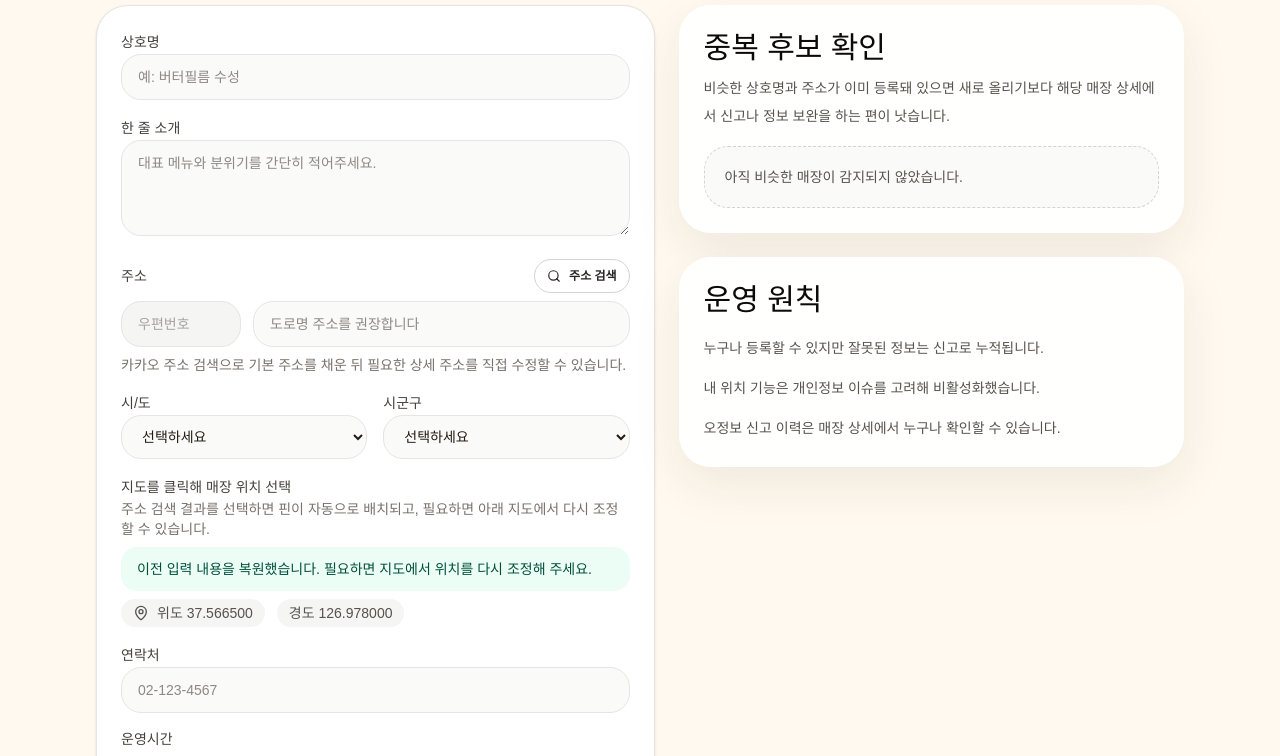
it: SubmissionHub › shows a generic error when the store API returns an empty body
This screenshot has width=1280, height=756.
Type "버터 테스트" into the field labelled "상호명" at (375, 77), box [121,54,630,100]
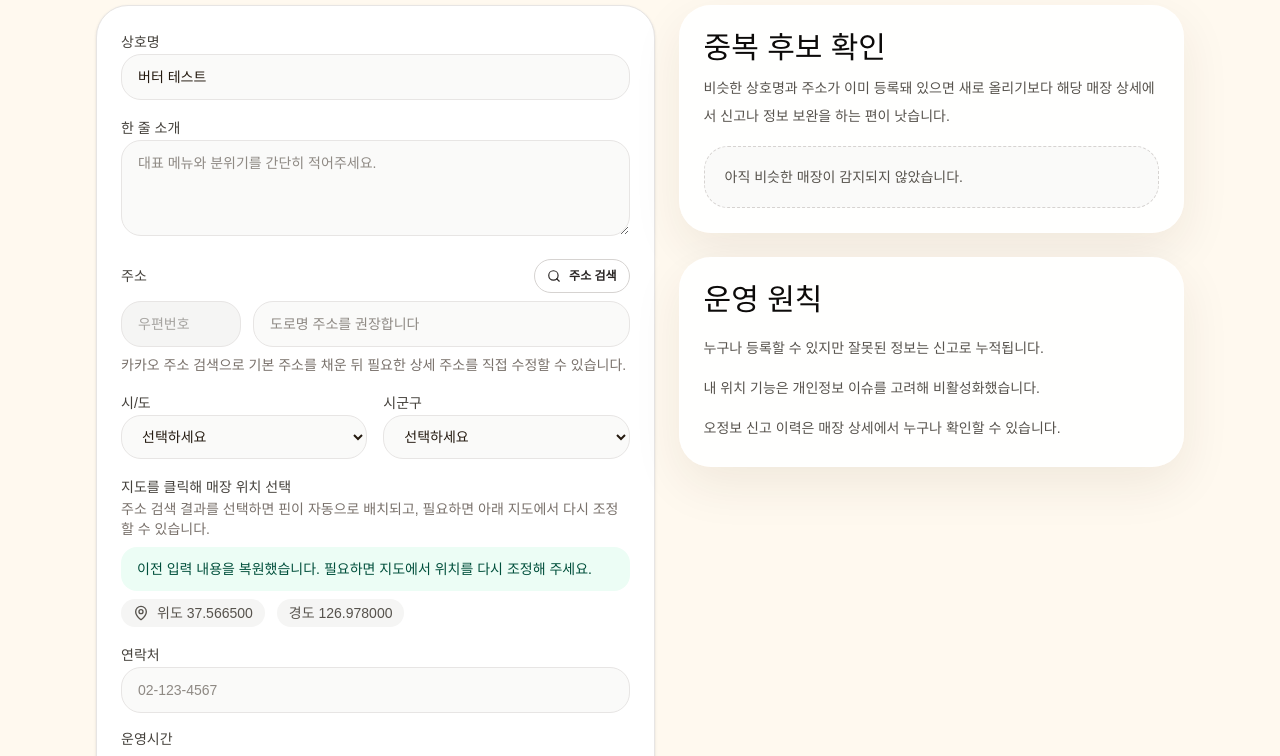
Type "버터떡이 맛있는 가게예요" into the text box labelled "한 줄 소개" at (375, 188), box [121,140,630,236]
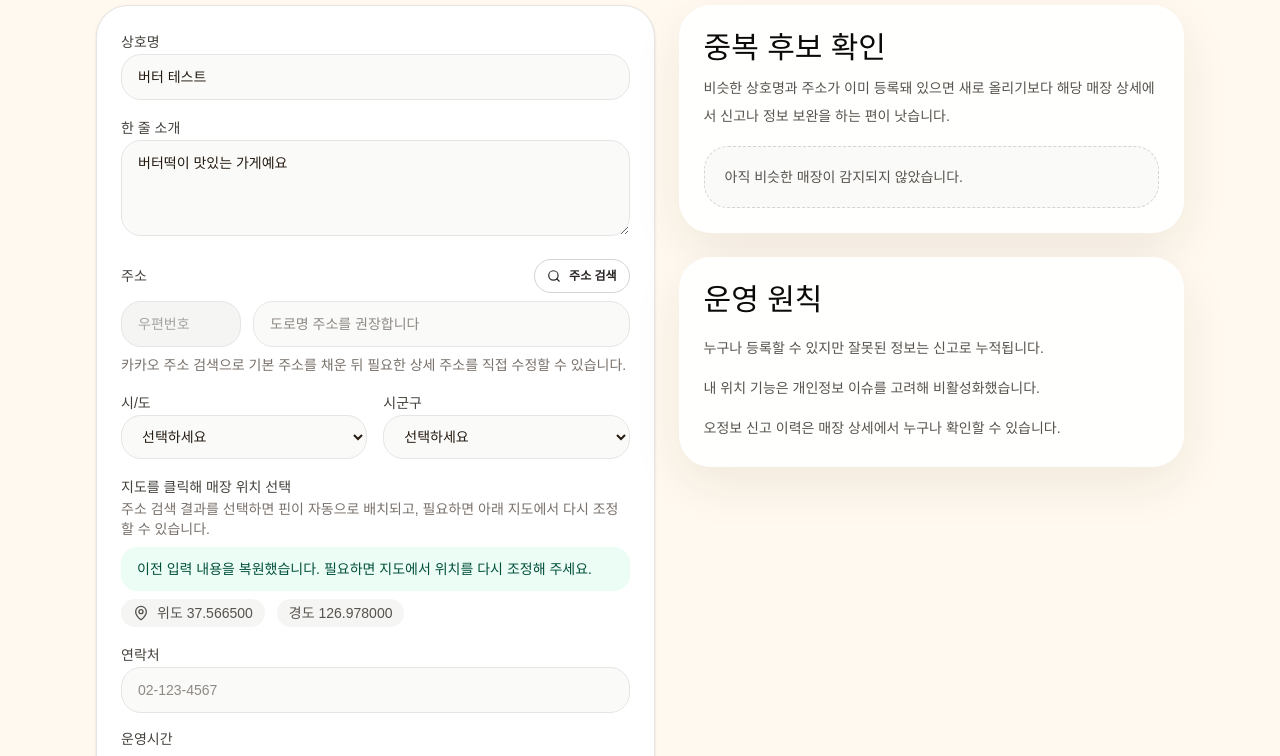
Type "서울특별시 중구 세종대로 110" into the field with placeholder "도로명 주소를 권장합니다" at (441, 324), box [253,301,630,347]
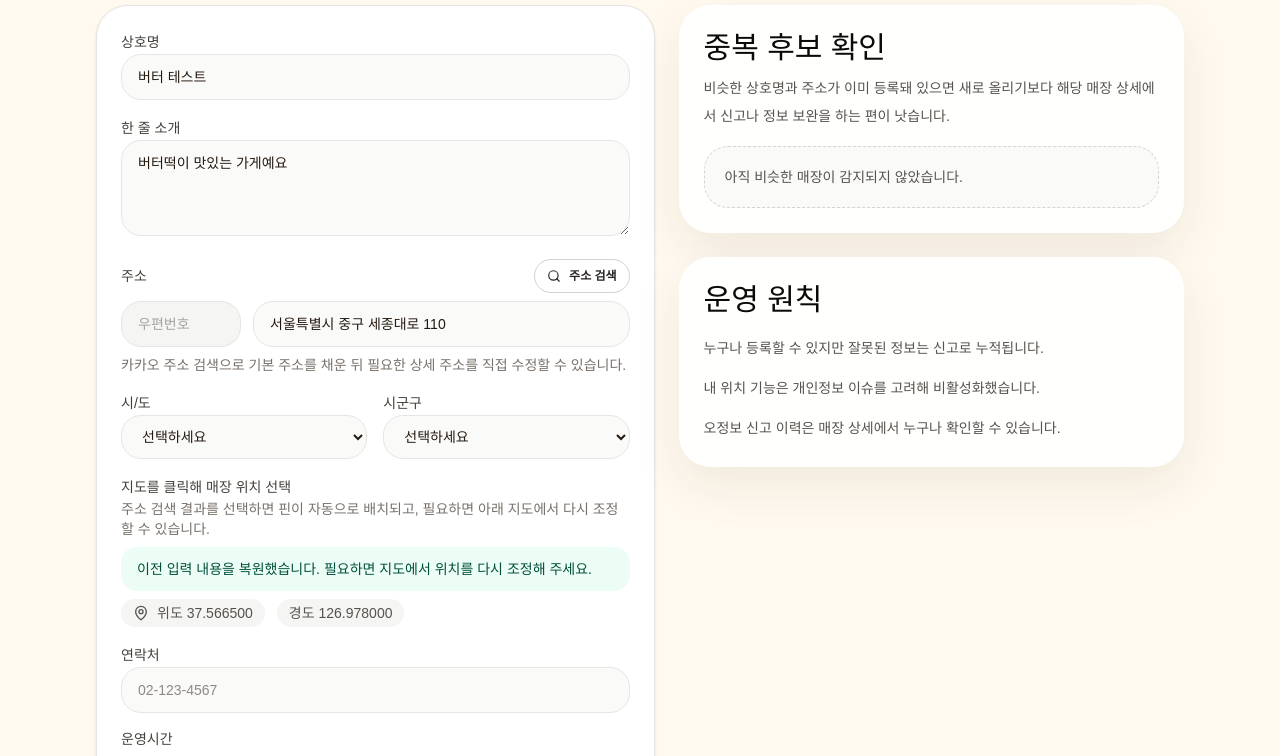
Select "서울특별시" in the dropdown labelled "시/도" at (244, 437), box [121,415,367,459]
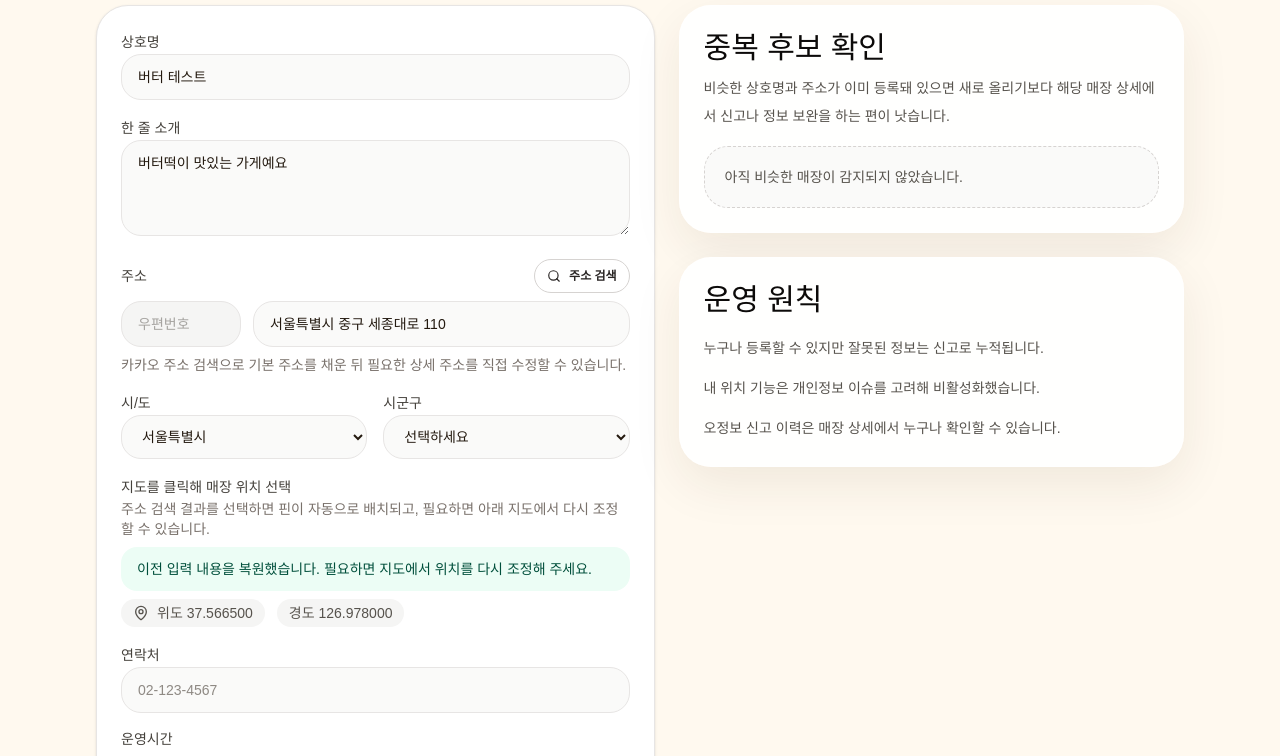
Select "중구" in the dropdown labelled "시군구" at (506, 437), box [383,415,630,459]
(page scrolled)
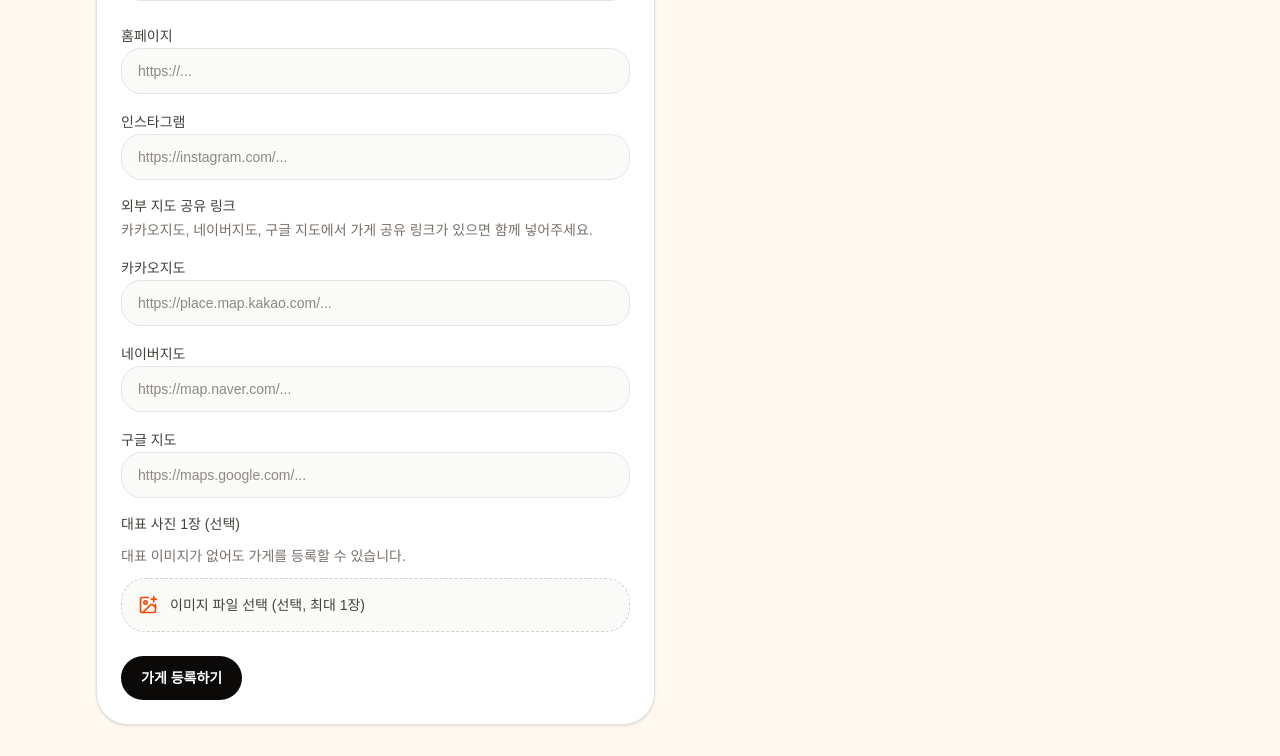
Click the button "가게 등록하기" at (182, 678), box [121,656,242,700]
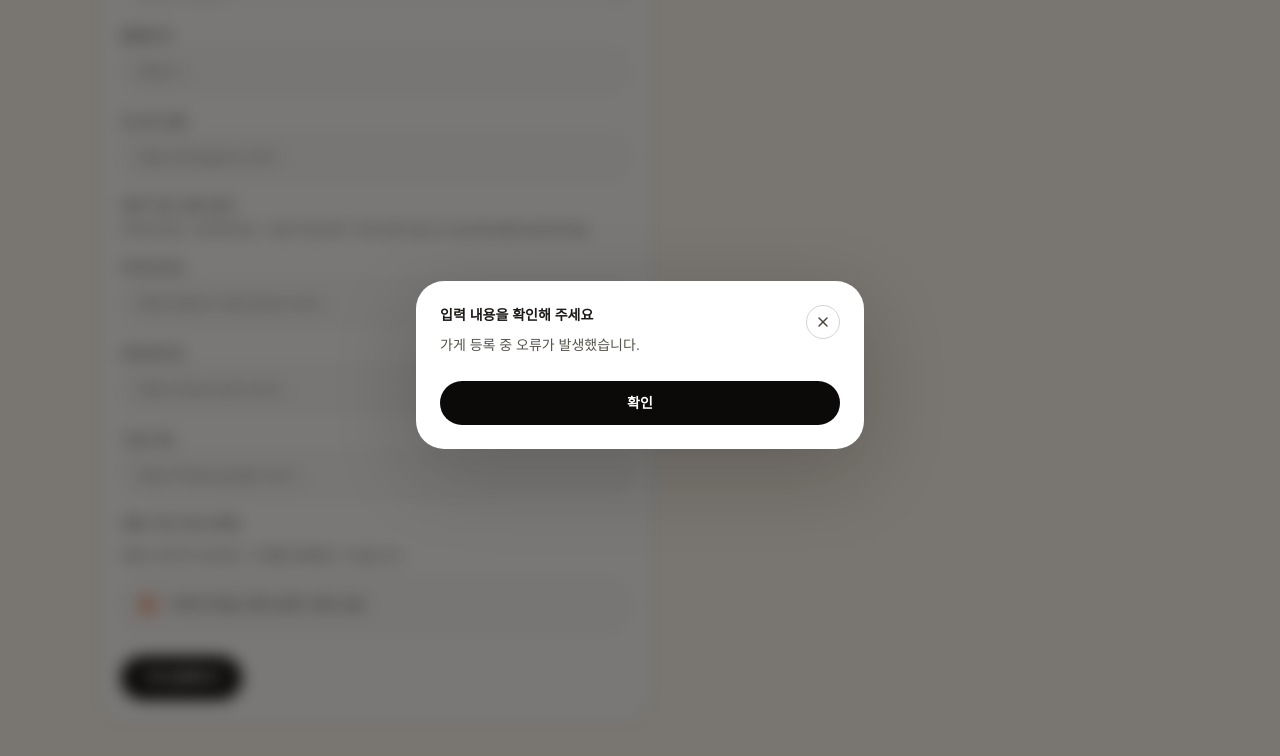
Now the text "가게 등록 중 오류가 발생했습니다." is shown, box [440,333,640,357]
